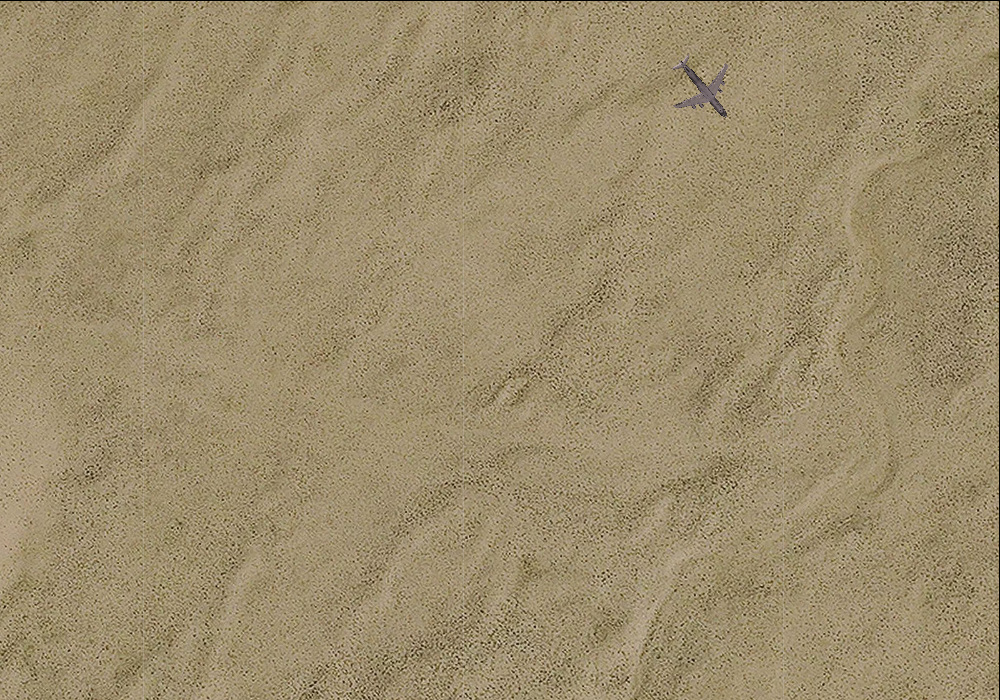plane: (652, 37, 753, 139)
